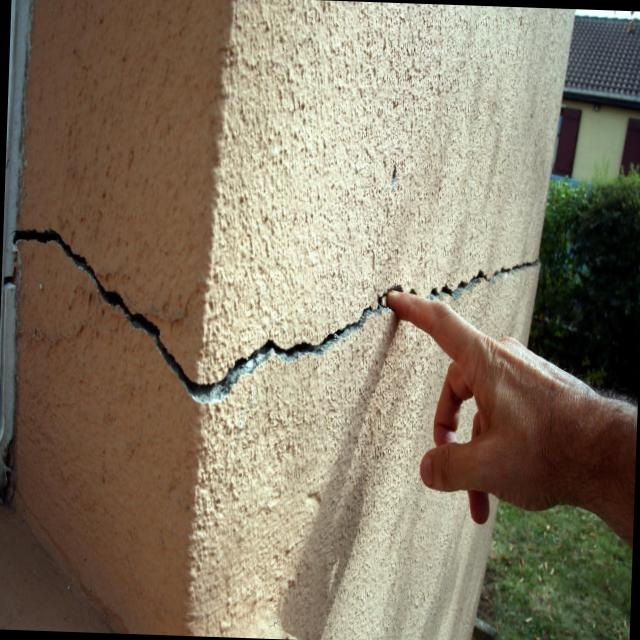crack: (11, 226, 385, 404), (433, 256, 540, 298)
